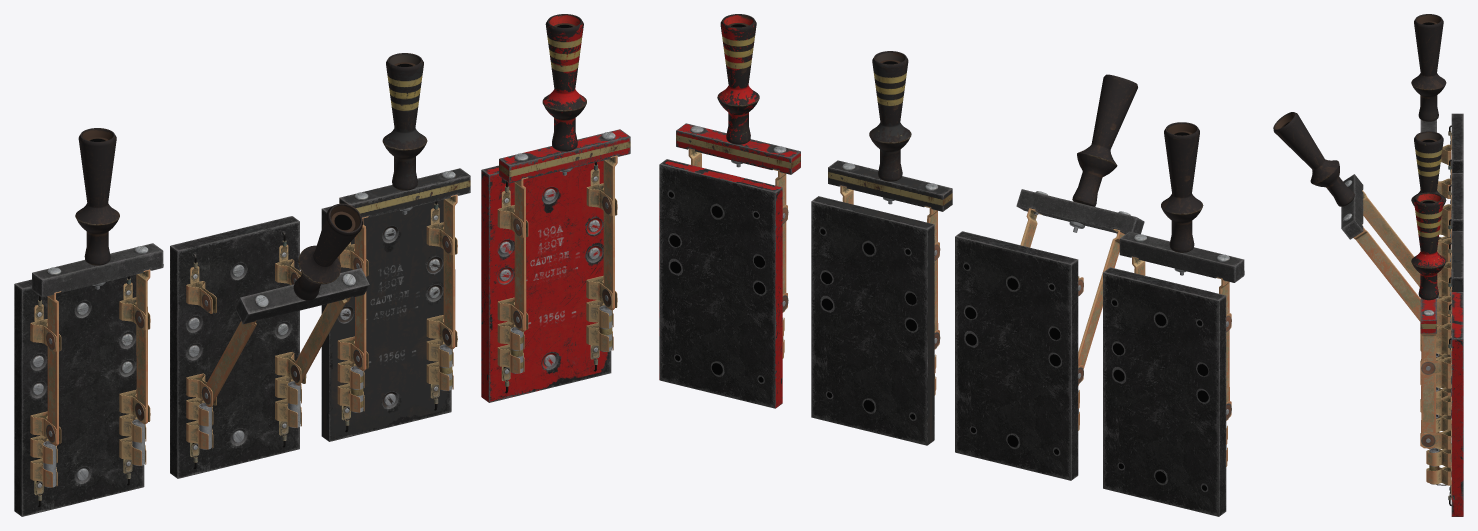
File: early_1900s_knife_switches_type_c.glb
The picture shows the model from 3 angles, left to right: view 1: azimuth 30°, elevation 25°; view 2: azimuth 150°, elevation 25°; view 3: azimuth 270°, elevation 25°; orthographic projection. The views are drawn at different scales.
Parts seen in each view (by area): view 1: Early 1900s Knife Switch Type C Standard_1, Early 1900s Knife Switch Type C Painted Red_3, Early 1900s Knife Switch Type B Open_0, Early 1900s Knife Switch Type C Painted Black_2; view 2: Early 1900s Knife Switch Type B Open_0, Early 1900s Knife Switch Type C Painted Red_3, Early 1900s Knife Switch Type C Painted Black_2, Early 1900s Knife Switch Type C Standard_1; view 3: Early 1900s Knife Switch Type C Painted Red_3, Early 1900s Knife Switch Type B Open_0, Early 1900s Knife Switch Type C Standard_1, Early 1900s Knife Switch Type C Painted Black_2.
Boxes of the visible parts, left/top/right/bottom form: Early 1900s Knife Switch Type C Standard_1: left=14, top=128, right=163, bottom=516; Early 1900s Knife Switch Type C Painted Red_3: left=481, top=14, right=630, bottom=402; Early 1900s Knife Switch Type B Open_0: left=170, top=203, right=369, bottom=478; Early 1900s Knife Switch Type C Painted Black_2: left=321, top=53, right=470, bottom=441; Early 1900s Knife Switch Type B Open_0: left=955, top=74, right=1144, bottom=480; Early 1900s Knife Switch Type C Painted Red_3: left=659, top=14, right=800, bottom=408; Early 1900s Knife Switch Type C Painted Black_2: left=811, top=51, right=952, bottom=445; Early 1900s Knife Switch Type C Standard_1: left=1103, top=122, right=1244, bottom=516; Early 1900s Knife Switch Type C Painted Red_3: left=1411, top=192, right=1463, bottom=516; Early 1900s Knife Switch Type B Open_0: left=1273, top=112, right=1463, bottom=366; Early 1900s Knife Switch Type C Standard_1: left=1411, top=14, right=1463, bottom=308; Early 1900s Knife Switch Type C Painted Black_2: left=1411, top=131, right=1463, bottom=443.
Size of the model in its own units: 0.7452 by 0.456 by 0.266.
Materials: 3 (3 with a texture image).
